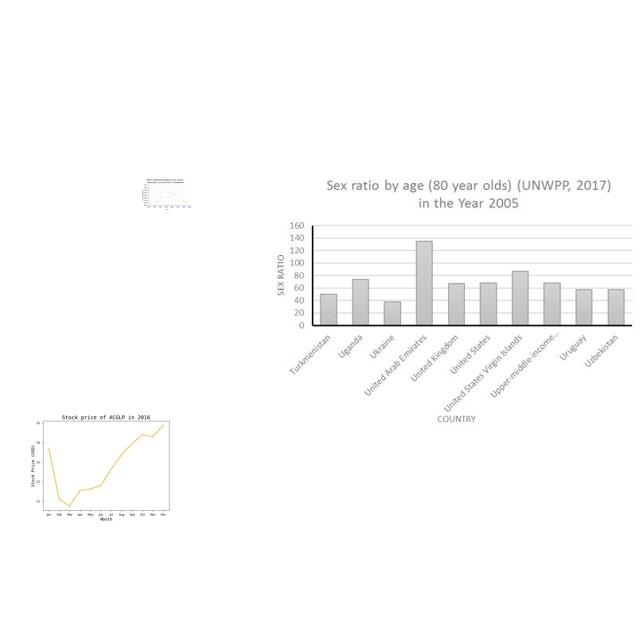Graph: (268, 173, 636, 427), (20, 407, 188, 523), (141, 178, 192, 211)
